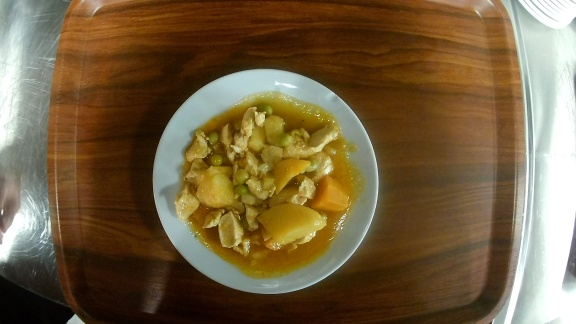bezelyelitavuk: (149, 68, 381, 297)
